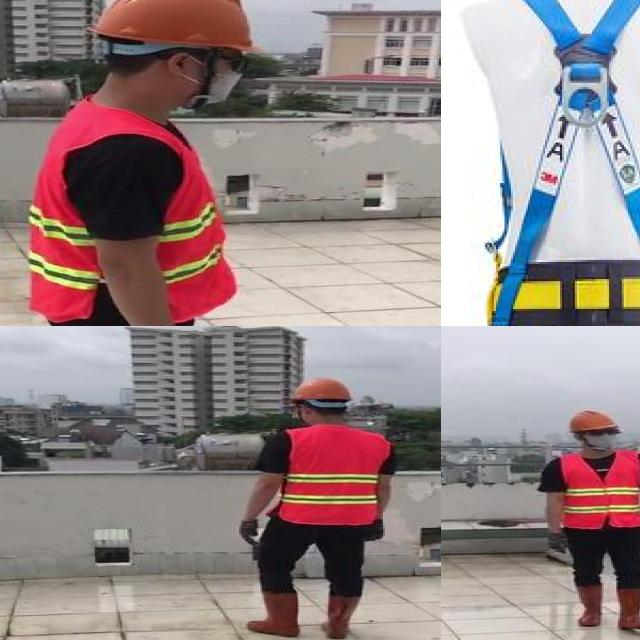Harness: (483, 0, 640, 326)
boots: (248, 590, 299, 636), (322, 595, 362, 640), (574, 585, 602, 626), (614, 587, 640, 630)
face_mask: (175, 48, 253, 108), (580, 424, 622, 450)
glasses: (579, 426, 627, 438)
hand_glove: (239, 518, 264, 543), (547, 532, 572, 554), (367, 519, 387, 543)
head_helmet: (78, 0, 260, 55), (288, 376, 352, 401), (566, 409, 619, 434)
person: (15, 0, 280, 326), (233, 373, 397, 640), (531, 408, 640, 637)
vest: (30, 102, 236, 319), (285, 427, 385, 524), (561, 452, 640, 529)
